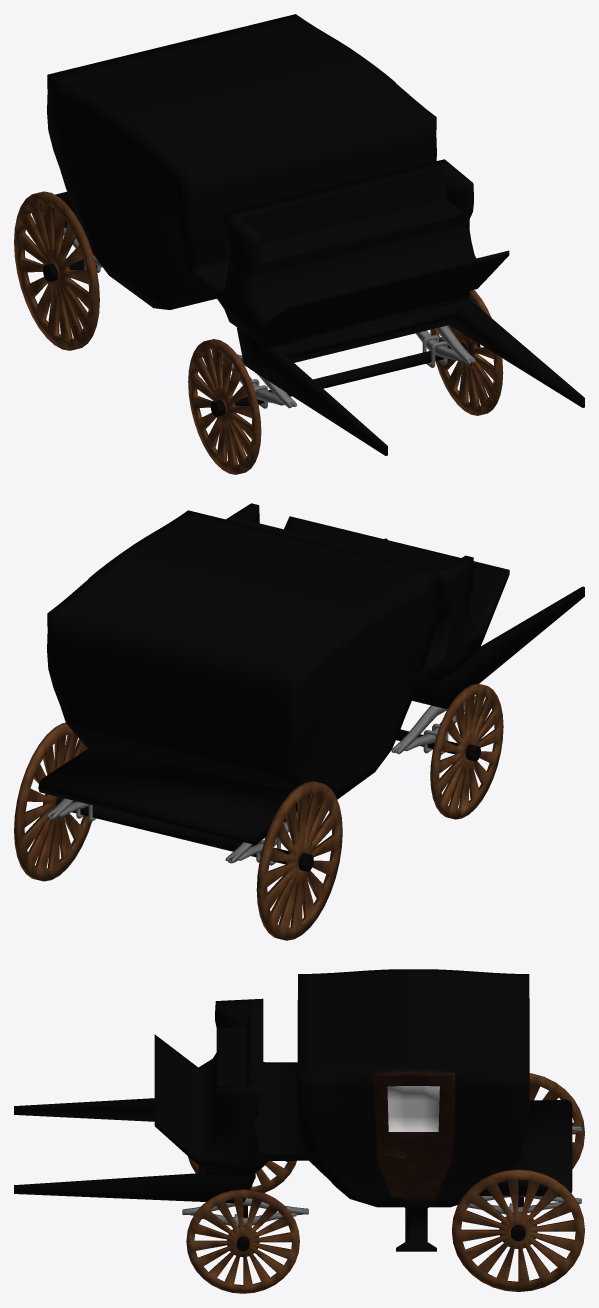
File: Carriage.obj
The picture shows the model from 3 angles, top to bottom: view 1: azimuth 30°, elevation 25°; view 2: azimuth 150°, elevation 25°; view 3: azimuth 270°, elevation 25°; orthographic projection. The views are drawn at different scales.
Visible parts, largest first — view 1: Carriage, Wheels, Shock_Absorber; view 2: Carriage, Wheels, Shock_Absorber; view 3: Carriage, Wheels, Shock_Absorber.
Part boxes in pixels (x1,y1,x2,y2): Carriage: (40,14,584,455); Wheels: (14,191,503,474); Shock_Absorber: (63,228,475,408); Carriage: (38,503,584,871); Wheels: (14,683,503,940); Shock_Absorber: (46,696,475,865); Carriage: (14,969,572,1251); Wheels: (186,1073,584,1293); Shock_Absorber: (182,1126,581,1227).
Size of the model in its own units: 2.43 by 2.43 by 5.59.
2 materials, 1 textured.
